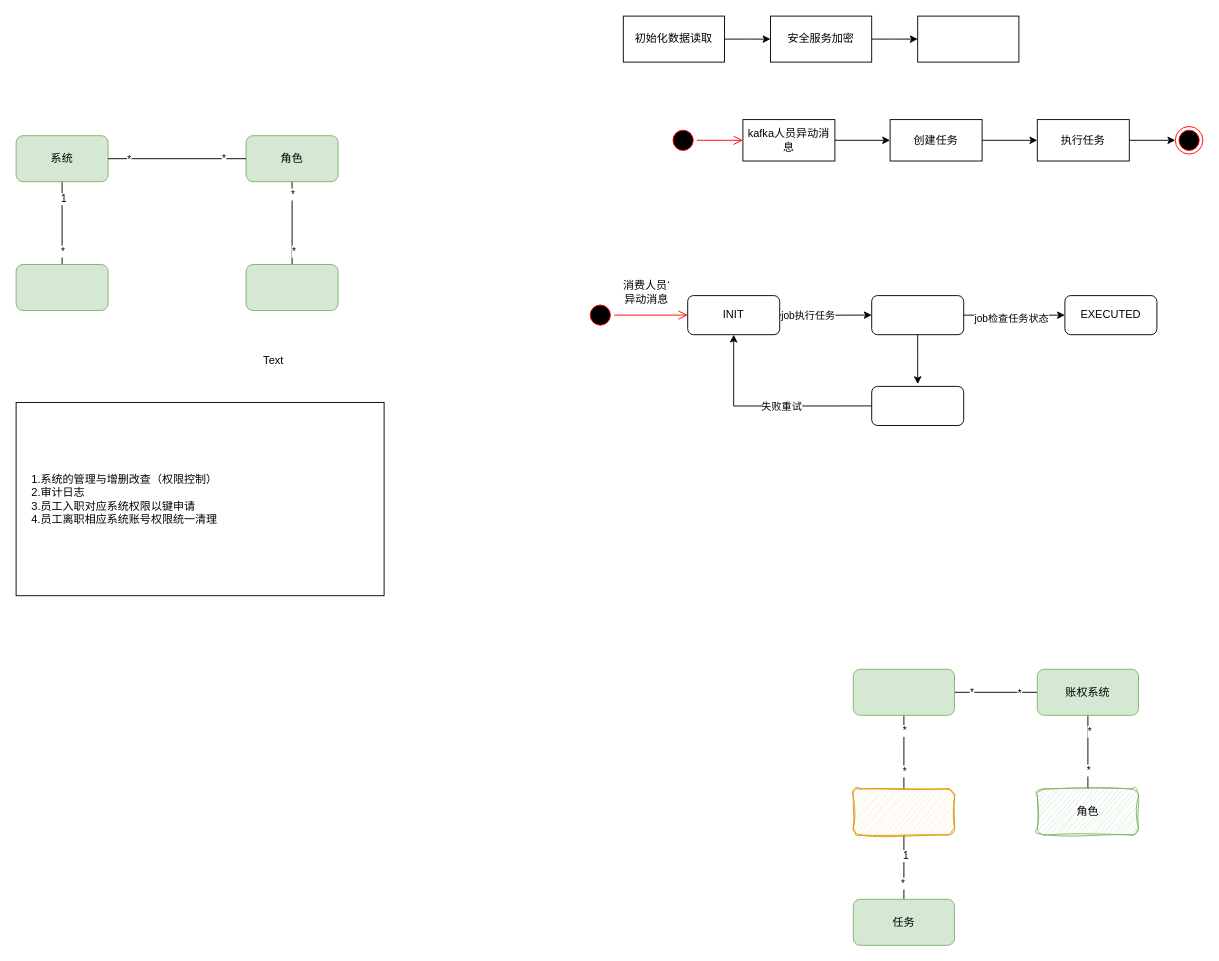
Image size: 1219x961. Some labels were removed from this diagram. Each missing label, with the box of its shape:
EXECUTING: (871, 295, 964, 335)
FAILED: (871, 385, 964, 426)
人员: (852, 788, 954, 835)
写入表中持久化: (917, 15, 1019, 62)
员工: (245, 264, 338, 310)
标签: (852, 668, 954, 715)
账号: (15, 264, 108, 310)
